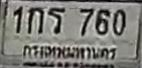0: (112, 8, 125, 35)
1: (13, 5, 22, 32)
6: (95, 8, 109, 34)
7: (79, 7, 93, 35)
A01: (27, 6, 43, 33)
A35: (47, 6, 65, 33)
BKK: (20, 41, 120, 63)
